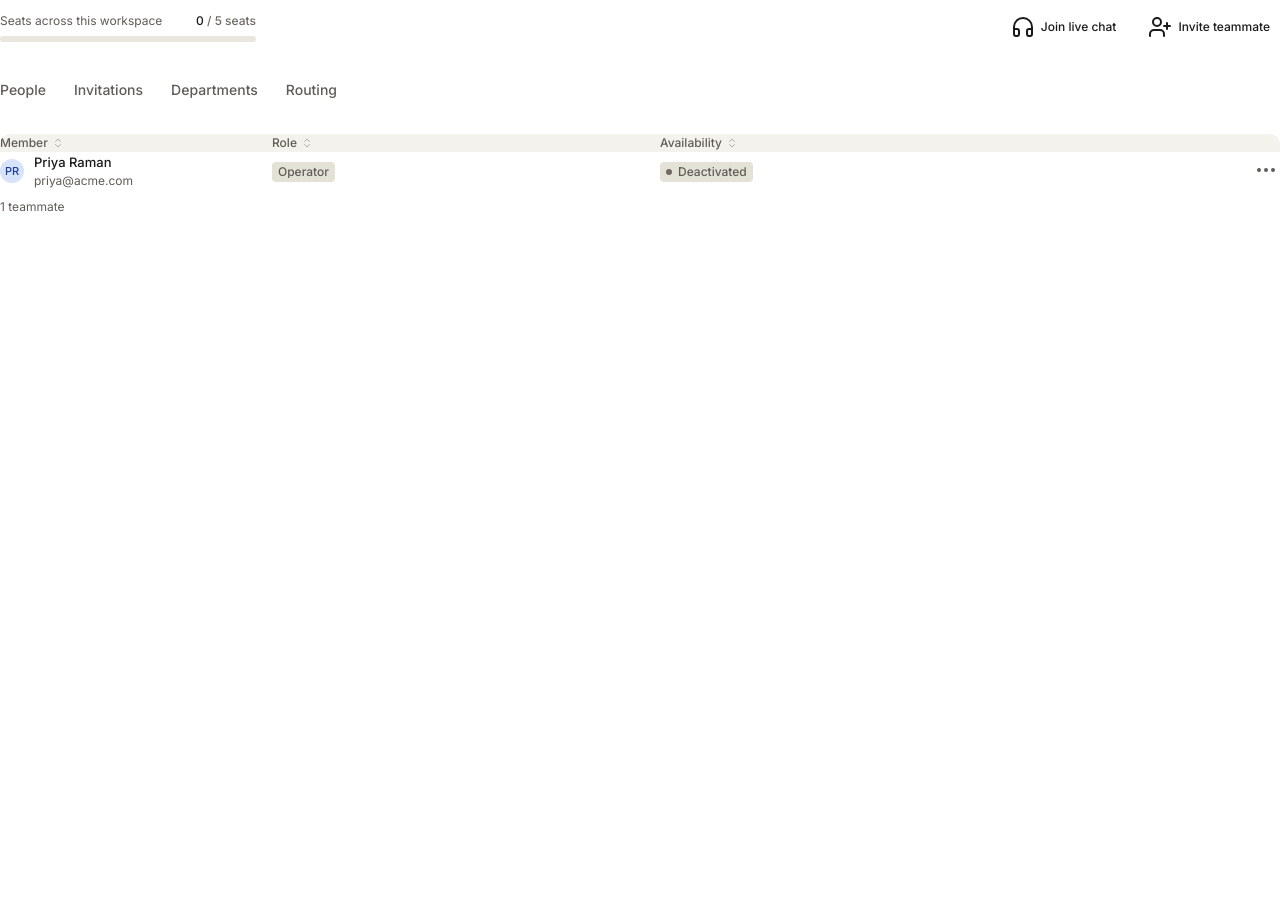
MembersPage — deactivating a teammate › shows the seat refusal rather than pretending the teammate is back
Expected: the text "Priya Raman" is shown, [34,152,112,172]
Click the button named "actions for priya raman". click: x=1266, y=170
box: [1252,156,1279,184]
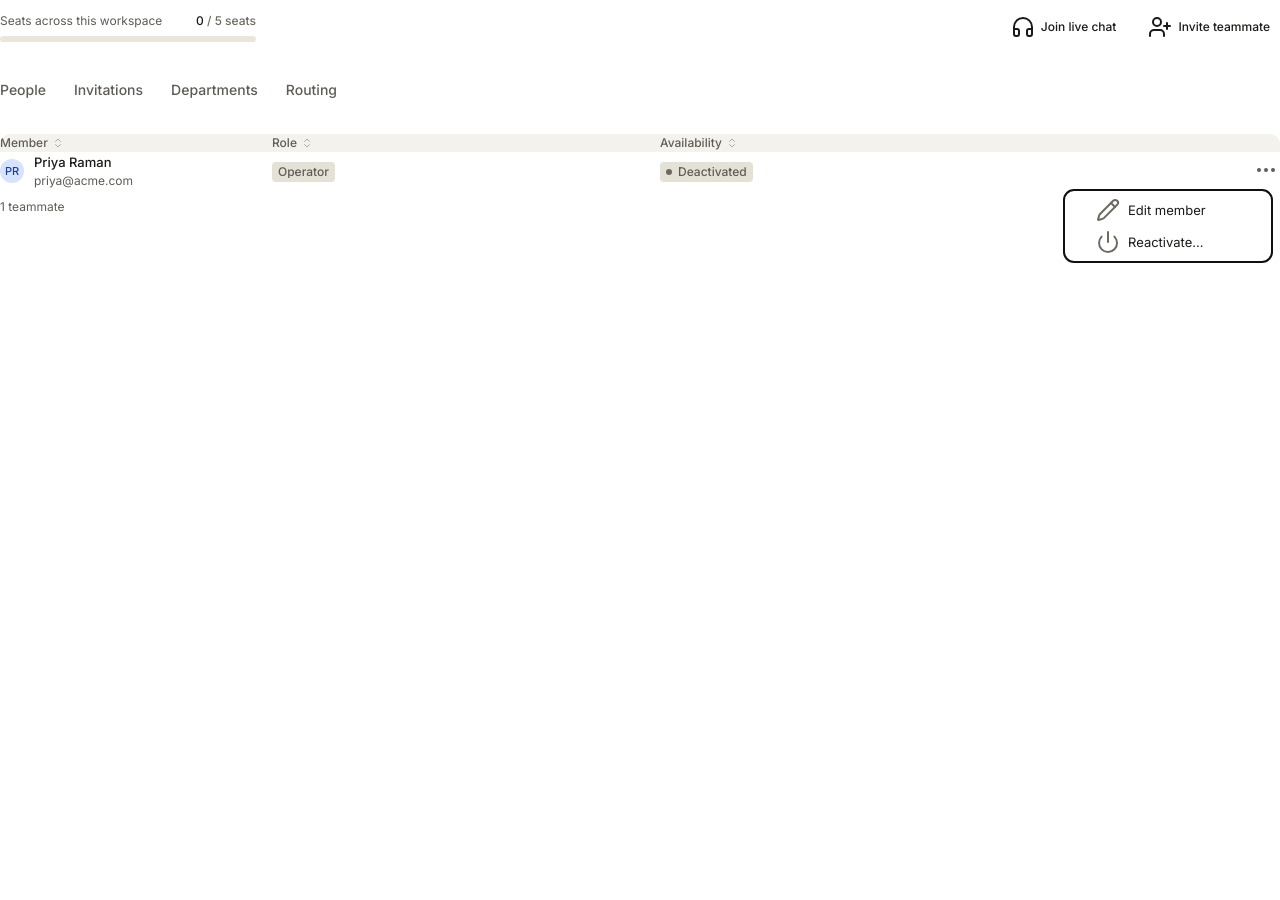
Click the menu item "Reactivate…". click: x=1150, y=242
box: [1096,230,1204,254]
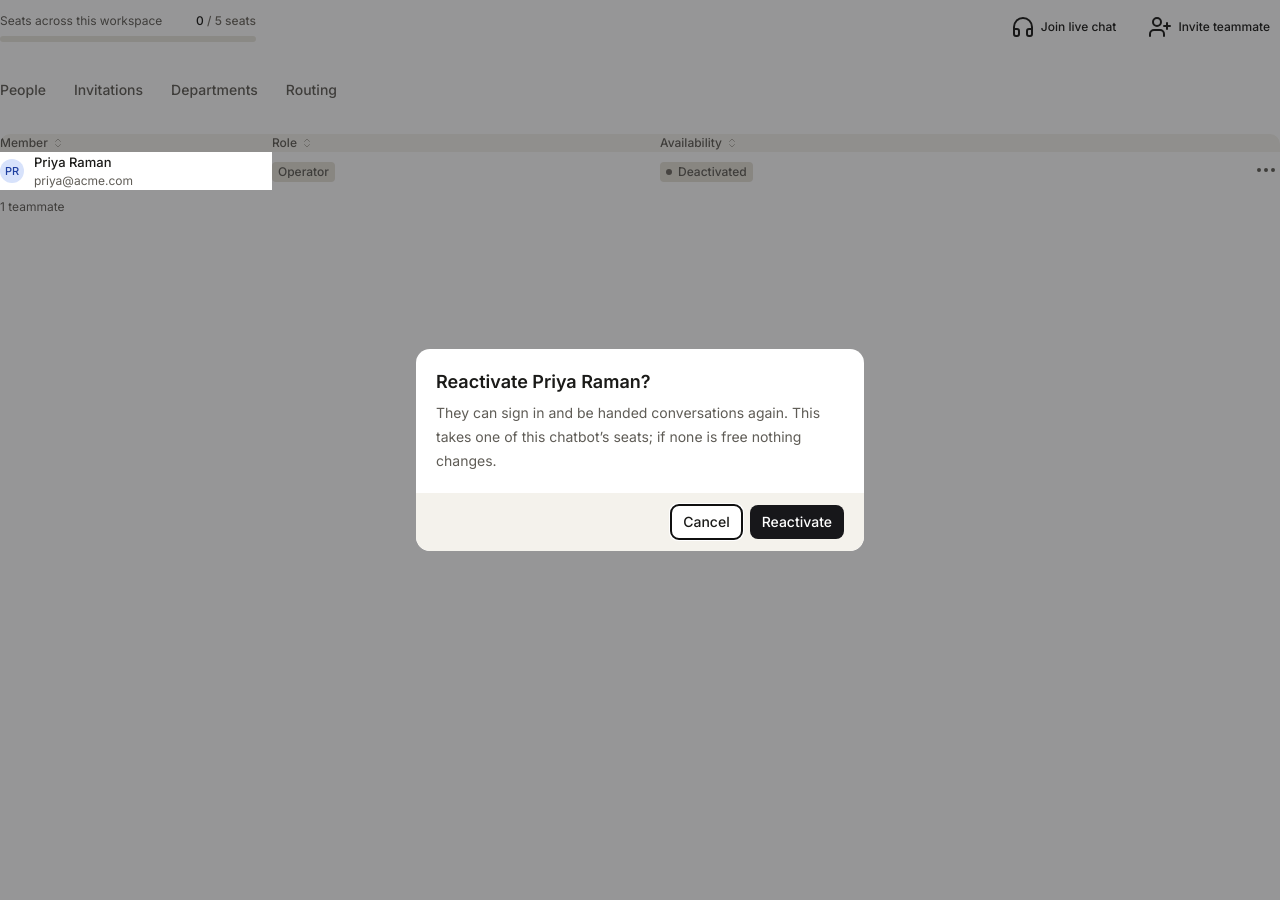
Click the button "Reactivate". click: x=797, y=522
box: [750,505,844,539]
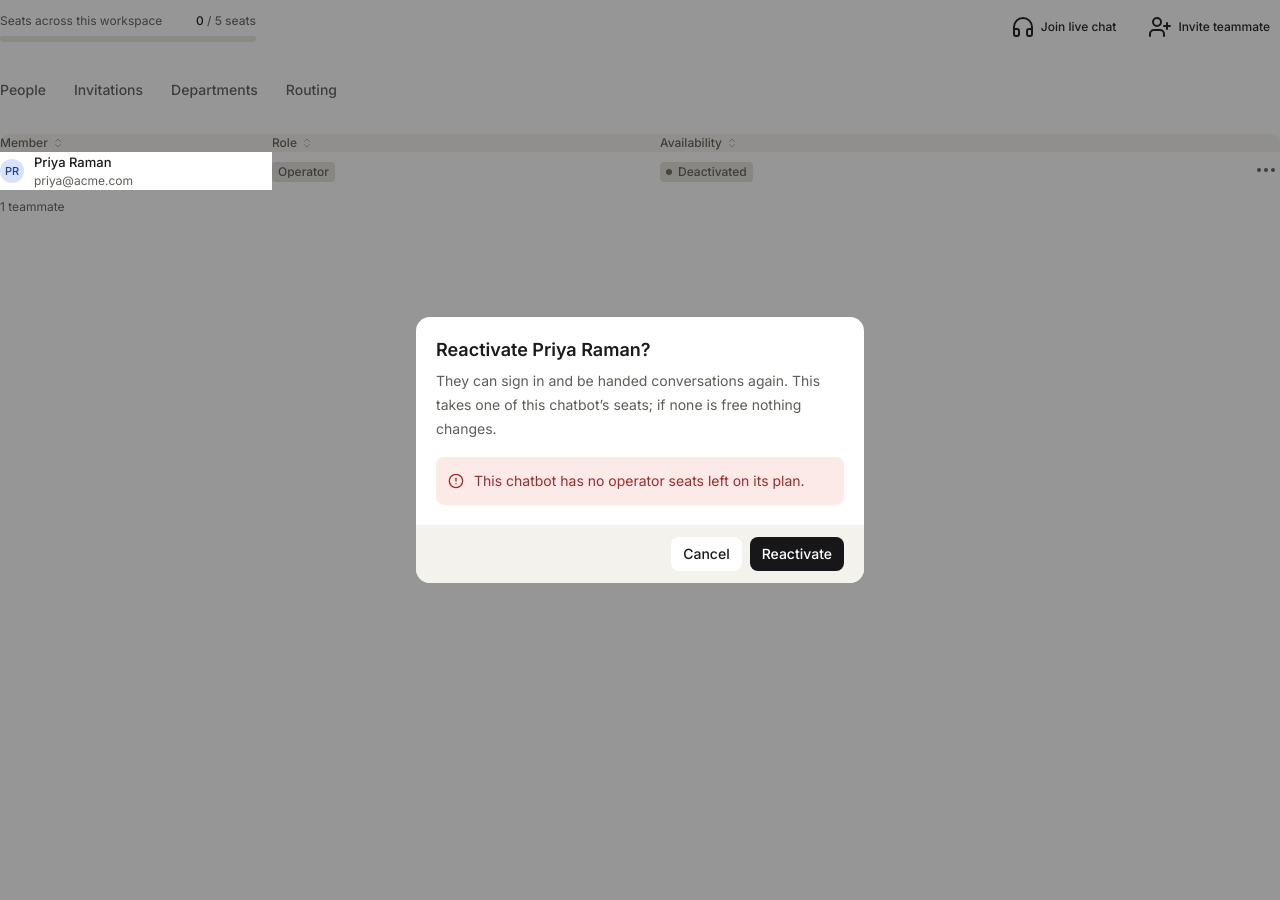
Expected: the text "Deactivated" is shown, [678,166,747,178]
Expected: the button "Cancel" is enabled, [671,537,742,571]
Expected: the text "This chatbot has no operator seats left on its plan." is shown, [474,469,832,493]
